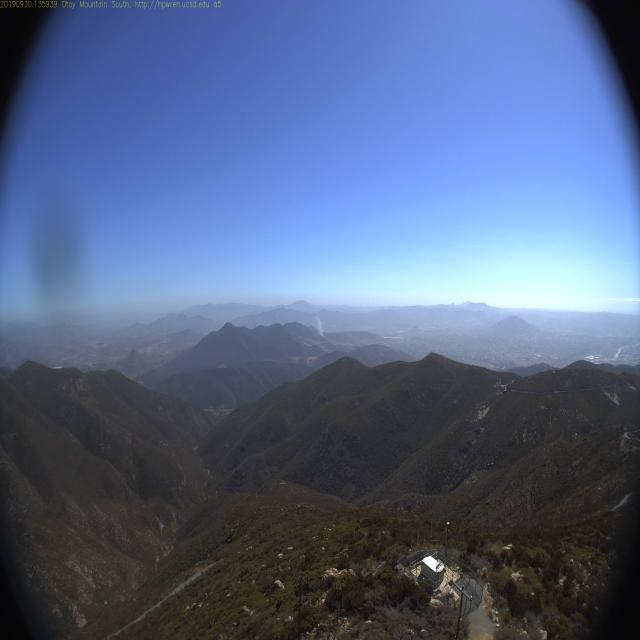smoke: (304, 312, 329, 339)
